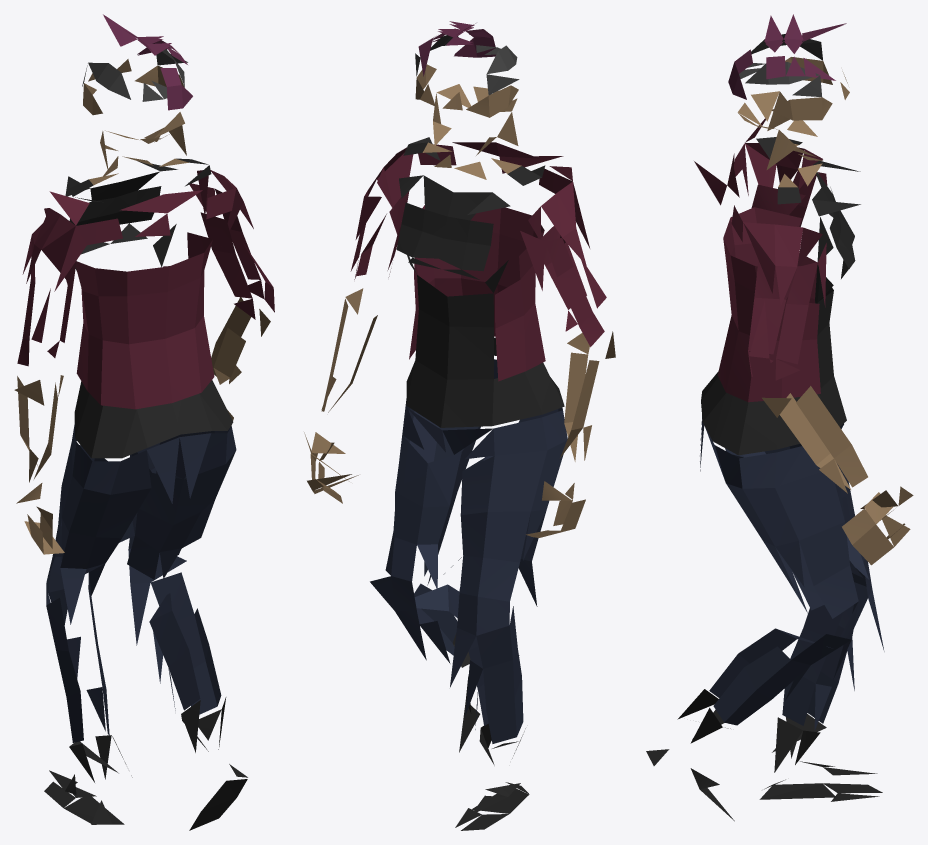
The model's file is personfar_8_w2.fbx.
The picture shows the model from 3 angles, left to right: view 1: azimuth 30°, elevation 25°; view 2: azimuth 150°, elevation 25°; view 3: azimuth 270°, elevation 25°; orthographic projection. The views are drawn at different scales.
Parts seen in each view (by area): view 1: Female; view 2: Female; view 3: Female.
Boxes of the visible parts, bbox=[...] form: Female: bbox=[14, 14, 274, 830]; Female: bbox=[304, 21, 615, 830]; Female: bbox=[646, 14, 913, 821].
Bounding box in the file's own units: 0.3451 × 0.9978 × 0.305.
